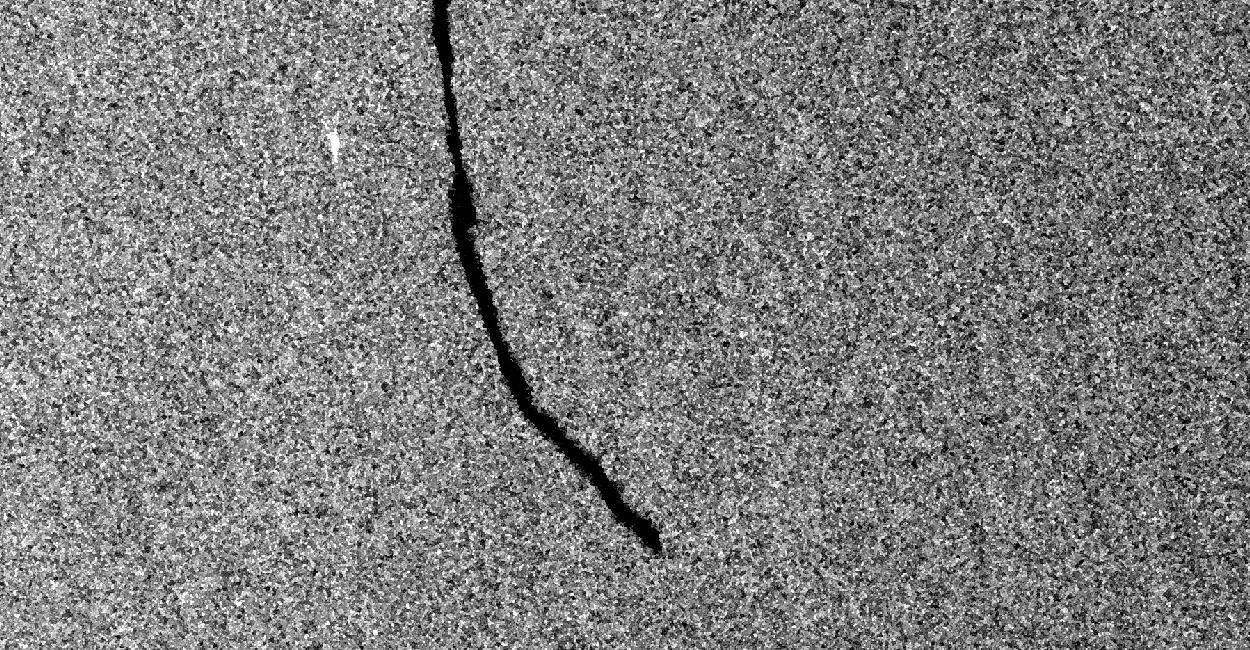Oil Spill: (428, 0, 662, 556)
